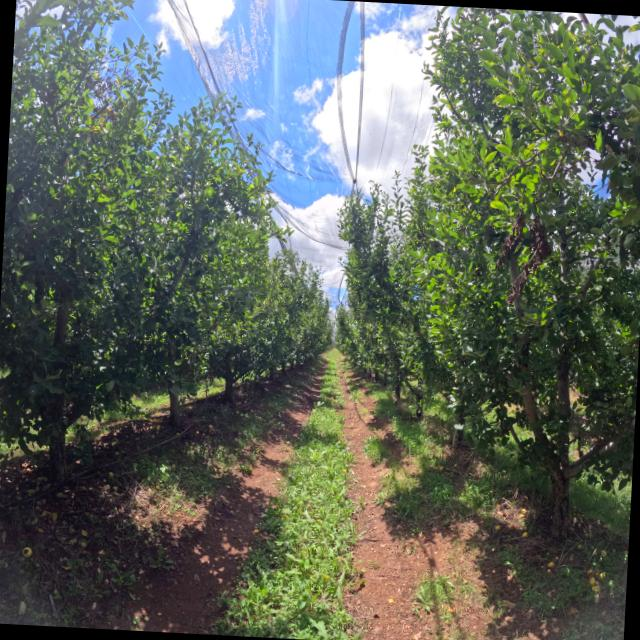-FireBlight-: (496, 207, 551, 305)
